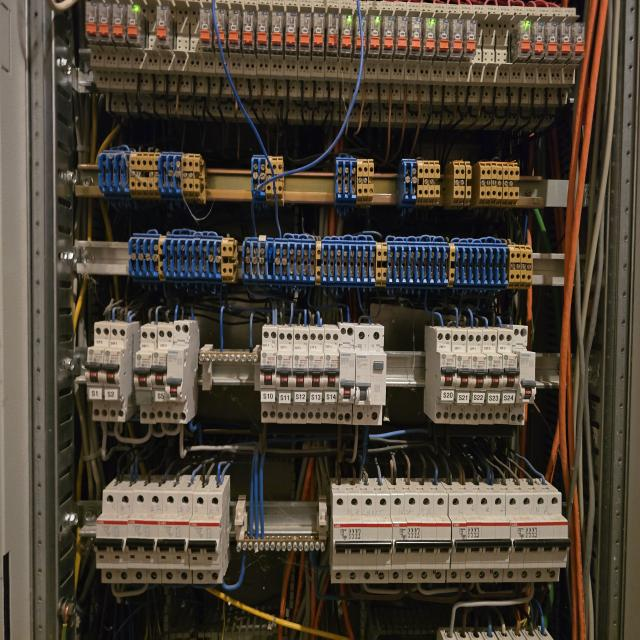FI_Sicherungskombi: (352, 326, 387, 425)
Relais: (126, 2, 141, 45), (156, 6, 170, 48), (112, 2, 125, 43), (228, 9, 241, 49), (242, 10, 255, 50), (271, 11, 284, 51), (299, 12, 312, 52), (464, 18, 477, 58), (199, 9, 212, 48), (368, 15, 381, 54), (572, 22, 586, 58), (286, 12, 298, 53), (409, 18, 422, 55), (437, 17, 450, 54), (214, 10, 226, 50), (340, 14, 352, 54), (354, 15, 366, 55), (85, 2, 98, 38), (99, 3, 111, 42), (256, 11, 268, 50), (313, 13, 325, 52), (546, 22, 559, 58), (451, 18, 463, 56), (533, 22, 545, 58), (382, 15, 393, 54), (397, 16, 408, 55), (519, 22, 531, 56), (328, 13, 338, 53), (425, 18, 435, 54), (561, 22, 571, 57)
Schaltkasten: (0, 0, 640, 640)
Sicherungen_230V: (96, 489, 134, 582), (127, 491, 163, 584), (157, 492, 193, 584), (189, 491, 222, 584), (509, 326, 537, 426), (165, 321, 190, 425), (85, 323, 111, 422), (101, 324, 127, 421), (479, 330, 504, 425), (150, 326, 174, 423), (494, 331, 519, 424), (434, 328, 457, 425), (134, 327, 157, 423), (465, 330, 487, 425), (450, 330, 472, 424), (337, 325, 356, 424), (307, 330, 325, 424), (322, 330, 340, 424), (261, 325, 277, 423), (277, 327, 292, 424), (293, 328, 308, 423)
Sicherungen_400V: (531, 492, 569, 582), (503, 493, 540, 582), (446, 493, 482, 583), (417, 493, 452, 583), (475, 493, 510, 583), (388, 493, 422, 583), (360, 494, 393, 584), (331, 493, 363, 584)
Verbinder: (242, 236, 534, 288), (97, 150, 206, 202), (130, 234, 235, 282), (474, 162, 519, 207), (398, 159, 440, 206), (334, 158, 374, 204), (249, 156, 285, 203), (446, 161, 471, 209)
